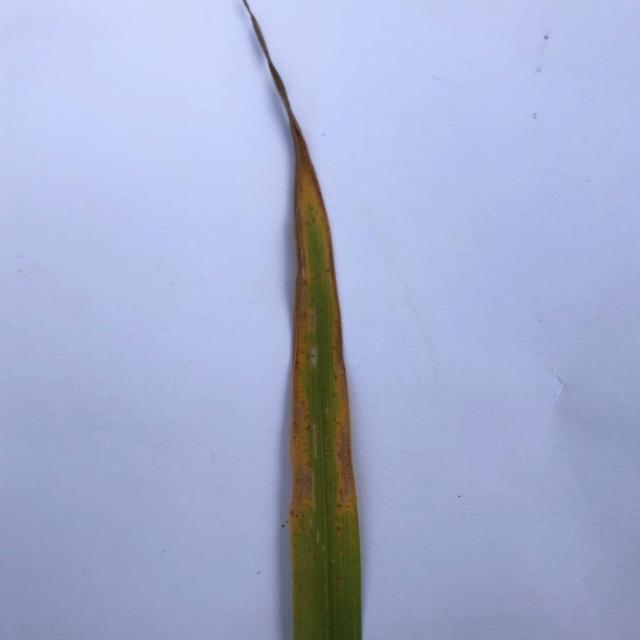tungro: (325, 124, 360, 526), (288, 120, 314, 544)
